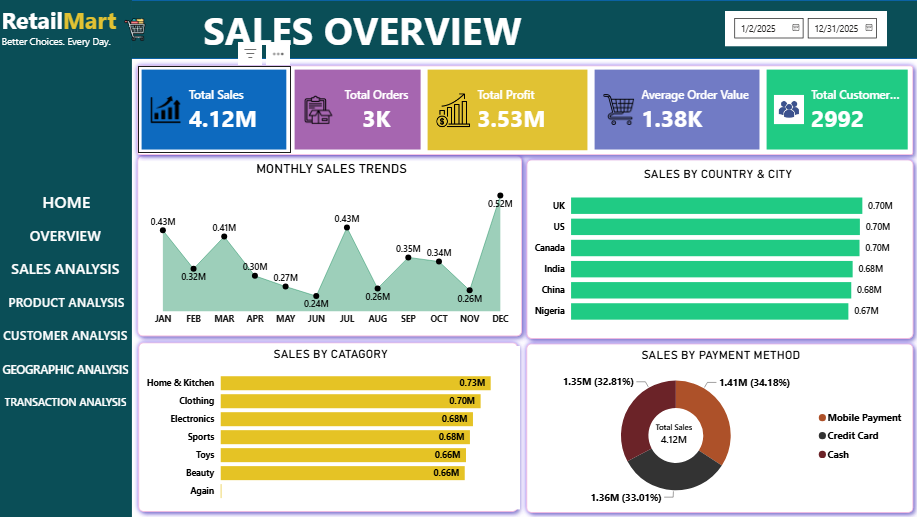

What the dashboard file says about the page in this screenshot:
{"tool":"powerbi","page":{"name":"OVERVIEW","canvas":[1280,720],"ordinal":2},"visuals":[{"type":"shape","box":[186.2,467,544.7,253.2],"z":0},{"type":"shape","box":[724.9,467.5,555.1,253.2],"z":1000},{"type":"shape","box":[724.5,212.8,555.3,267],"z":2000},{"type":"shape","box":[184.7,206.3,552.1,269.2],"z":3000},{"type":"shape","box":[185.1,0,1094.7,81.9],"z":4000},{"type":"shape","box":[0,0,186.2,720.2],"z":5000},{"type":"textbox","box":[0,0,254,82],"z":6000,"group":"g1"},{"type":"shape","box":[184.7,81.5,1095.3,142.4],"z":6000},{"type":"cardVisual","fields":{"Data":["public Sales Data.Total Orders"]},"box":[406.3,91.8,185,121],"z":7000},{"type":"cardVisual","fields":{"Data":["public Sales Data.Total Customer Display"]},"box":[1062.6,92,206.1,121.5],"z":8000},{"type":"cardVisual","fields":{"Data":["public Sales Data.Total Sales"]},"box":[194.8,91.8,211.5,121],"z":9000},{"type":"cardVisual","fields":{"Data":["public Sales Data.Total Sales"]},"box":[900,571.3,63.8,62.8],"z":10000},{"type":"cardVisual","fields":{"Data":["public Sales Data.Total Profit"]},"box":[591.3,91.8,232.3,122.4],"z":11000},{"type":"cardVisual","fields":{"Data":["public Sales Data.Average Order Value"]},"box":[823.7,91.8,239.3,121],"z":12000},{"type":"clusteredBarChart","title":"SALES BY CATAGORY","fields":{"Category":["public Sales Data.Category"],"Y":["public Sales Data.Total Sales"]},"box":[200.3,480,524.5,226.8],"z":13000},{"type":"barChart","title":"SALES BY COUNTRY & CITY","fields":{"Category":["public Sales Data.Country","public Sales Data.City"],"Y":["public Sales Data.Total Sales"]},"box":[739.4,230.9,522.3,230.9],"z":14000},{"type":"lineChart","title":"MONTHLY SALES TRENDS","fields":{"Category":["public Sales Data.MONTH_NAME"],"Y":["public Sales Data.Total Sales"]},"box":[207.3,224,512.8,237.7],"z":15000},{"type":"donutChart","title":"SALES BY PAYMENT METHOD","fields":{"Category":["public Sales Data.Payment Method"],"Y":["public Sales Data.Total Sales"]},"box":[738.8,481.4,530.1,226.8],"z":16000},{"type":"cardVisual","fields":{"Data":["public Sales Data.Total Sales"]},"box":[907.4,571.3,63.8,62.8],"z":17000},{"type":"textbox","box":[272,0,468,82],"z":18000},{"type":"actionButton","box":[1.4,256.3,187.3,46.5],"z":19000},{"type":"actionButton","box":[0,302.8,187.3,46.5],"z":20000},{"type":"actionButton","box":[1.4,395.8,187.3,46.5],"z":21000},{"type":"actionButton","box":[0,442.3,187.3,46.5],"z":22000},{"type":"actionButton","box":[0,488.7,187.3,46.5],"z":23000},{"type":"actionButton","box":[0,535.2,187.3,46.5],"z":24000},{"type":"actionButton","box":[0,349.3,187.3,46.5],"z":25000},{"type":"group","id":"g1","title":"Group 1","box":[0,0,254,82],"z":26000},{"type":"slicer","fields":{"Values":["public Sales Data.Date"]},"box":[1009.9,15.5,225.4,49.3],"z":27000},{"type":"image","box":[167.6,25.4,43.7,32.4],"z":30001,"group":"g1"}]}

Visuals, with their boxes in screenshot pixels (x1, y1, x2, y2), scaled from the page's 1280x720 canvas onto the 917x517 screenshot:
shape: (x1=133, y1=335, x2=524, y2=516)
shape: (x1=519, y1=336, x2=916, y2=516)
shape: (x1=519, y1=153, x2=916, y2=345)
shape: (x1=132, y1=148, x2=528, y2=341)
shape: (x1=133, y1=0, x2=916, y2=59)
shape: (x1=0, y1=0, x2=133, y2=516)
textbox: (x1=0, y1=0, x2=182, y2=59)
shape: (x1=132, y1=59, x2=916, y2=161)
cardVisual - public Sales Data.Total Orders: (x1=291, y1=66, x2=424, y2=153)
cardVisual - public Sales Data.Total Customer Display: (x1=761, y1=66, x2=909, y2=153)
cardVisual - public Sales Data.Total Sales: (x1=140, y1=66, x2=291, y2=153)
cardVisual - public Sales Data.Total Sales: (x1=645, y1=410, x2=690, y2=455)
cardVisual - public Sales Data.Total Profit: (x1=424, y1=66, x2=590, y2=154)
cardVisual - public Sales Data.Average Order Value: (x1=590, y1=66, x2=762, y2=153)
"SALES BY CATAGORY" clusteredBarChart: (x1=143, y1=345, x2=519, y2=508)
"SALES BY COUNTRY & CITY" barChart: (x1=530, y1=166, x2=904, y2=332)
"MONTHLY SALES TRENDS" lineChart: (x1=149, y1=161, x2=516, y2=332)
"SALES BY PAYMENT METHOD" donutChart: (x1=529, y1=346, x2=909, y2=509)
cardVisual - public Sales Data.Total Sales: (x1=650, y1=410, x2=696, y2=455)
textbox: (x1=195, y1=0, x2=530, y2=59)
actionButton: (x1=1, y1=184, x2=135, y2=217)
actionButton: (x1=0, y1=217, x2=134, y2=251)
actionButton: (x1=1, y1=284, x2=135, y2=318)
actionButton: (x1=0, y1=318, x2=134, y2=351)
actionButton: (x1=0, y1=351, x2=134, y2=384)
actionButton: (x1=0, y1=384, x2=134, y2=418)
actionButton: (x1=0, y1=251, x2=134, y2=284)
"Group 1" group: (x1=0, y1=0, x2=182, y2=59)
slicer - public Sales Data.Date: (x1=723, y1=11, x2=885, y2=47)
image: (x1=120, y1=18, x2=151, y2=42)
